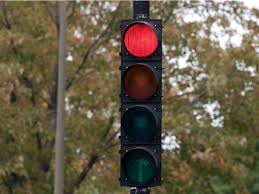red: (116, 14, 166, 149), (122, 19, 162, 143)
